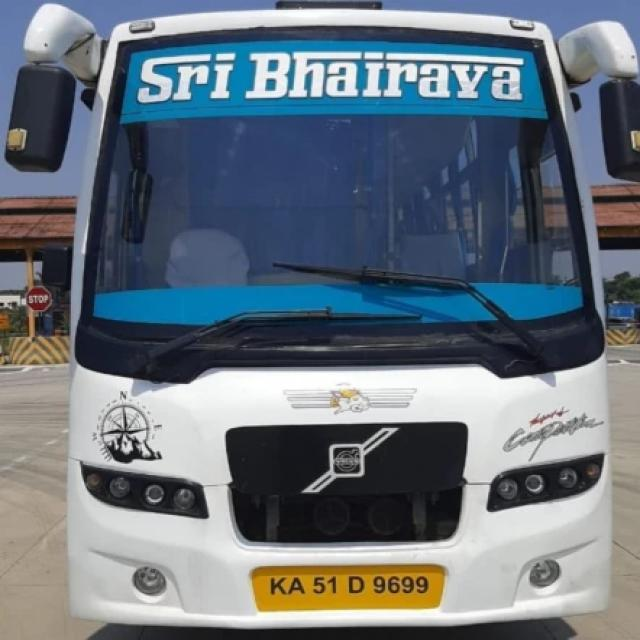Plate: (258, 568, 439, 607)
bus: (64, 15, 614, 627)
